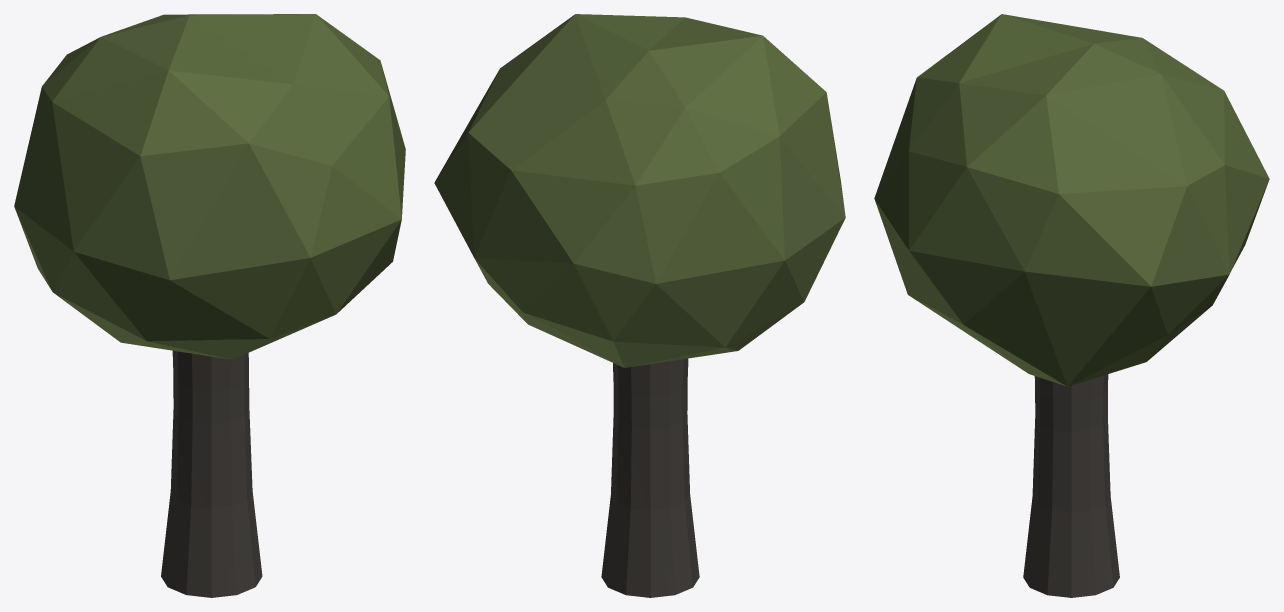
Rendered from round tree.fbx.
The picture shows the model from 3 angles, left to right: view 1: azimuth 30°, elevation 25°; view 2: azimuth 150°, elevation 25°; view 3: azimuth 270°, elevation 25°; orthographic projection. The views are drawn at different scales.
Visible parts, largest first — view 1: Round Tree.002; view 2: Round Tree.002; view 3: Round Tree.002.
Part boxes in pixels (x1,y1,x2,y2): Round Tree.002: [14, 14, 405, 597]; Round Tree.002: [434, 14, 845, 597]; Round Tree.002: [874, 14, 1269, 597].
Bounding box in the file's own units: 427 × 645 × 437.
